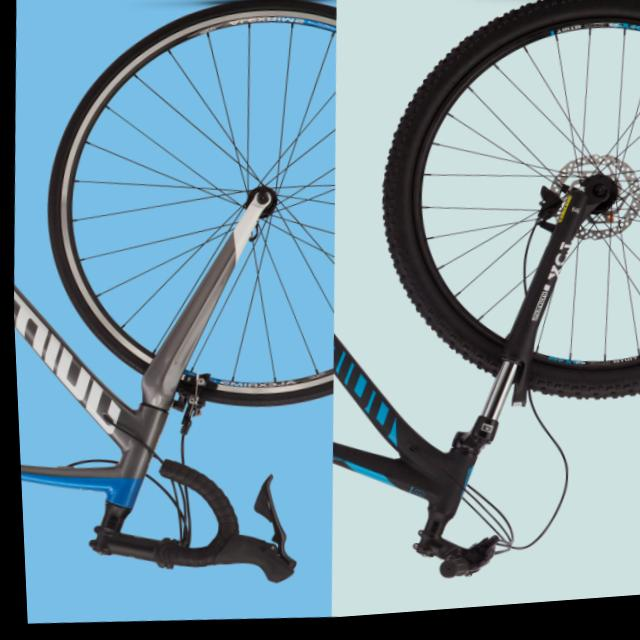mountain-bike: (308, 0, 640, 601)
road-bike: (0, 0, 357, 602)
